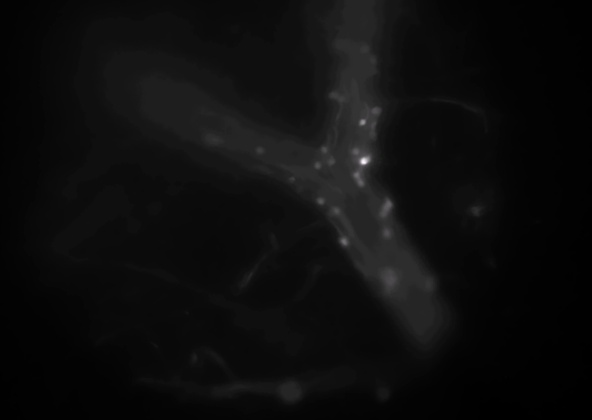cell: (356, 154, 370, 168), (355, 115, 369, 129), (370, 104, 384, 118), (350, 144, 364, 158), (363, 153, 377, 167), (317, 142, 331, 156), (311, 157, 325, 171), (325, 154, 339, 168), (326, 89, 340, 103), (350, 169, 364, 183), (335, 92, 349, 106), (355, 177, 369, 191), (337, 236, 351, 250), (382, 272, 396, 286), (380, 227, 394, 241), (383, 197, 397, 211), (377, 204, 391, 218), (378, 201, 392, 215), (312, 195, 326, 209), (331, 203, 345, 217), (285, 173, 299, 187), (253, 143, 267, 157), (207, 134, 221, 148), (424, 274, 438, 288), (358, 42, 372, 56), (367, 52, 381, 66), (334, 40, 348, 54), (367, 130, 381, 144)
